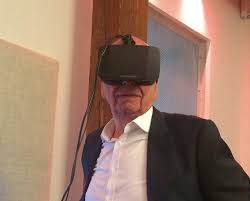oculus: (97, 42, 162, 87)
